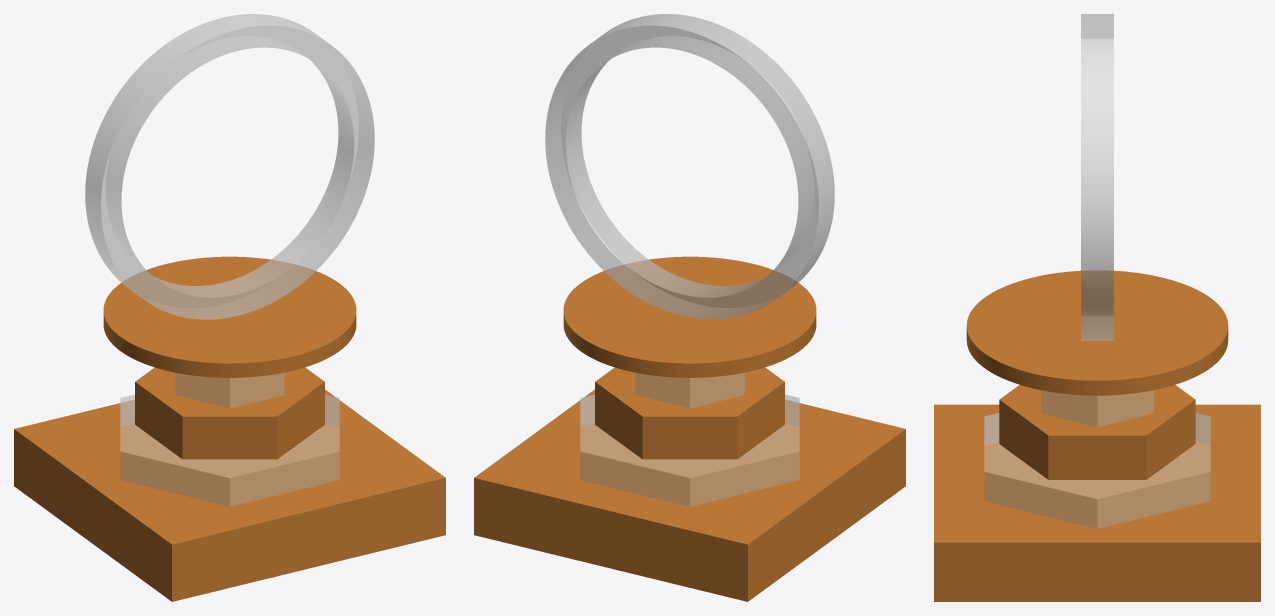
File: bronze.dae
The picture shows the model from 3 angles, left to right: view 1: azimuth 30°, elevation 25°; view 2: azimuth 150°, elevation 25°; view 3: azimuth 270°, elevation 25°; orthographic projection. The views are drawn at different scales.
Parts seen in each view (by area): view 1: base_bronze (×7), Component_5 (×2); view 2: base_bronze (×7), Component_5 (×2); view 3: base_bronze (×7), Component_5 (×2).
Part boxes in pixels (box(x1,y1,x2,y2)): base_bronze (×7): box(14, 256, 445, 601); Component_5 (×2): box(85, 14, 374, 319); base_bronze (×7): box(474, 256, 905, 601); Component_5 (×2): box(545, 14, 834, 319); base_bronze (×7): box(934, 270, 1260, 601); Component_5 (×2): box(1081, 14, 1113, 340).
Bounding box in the file's own units: 394 × 394 × 669.
